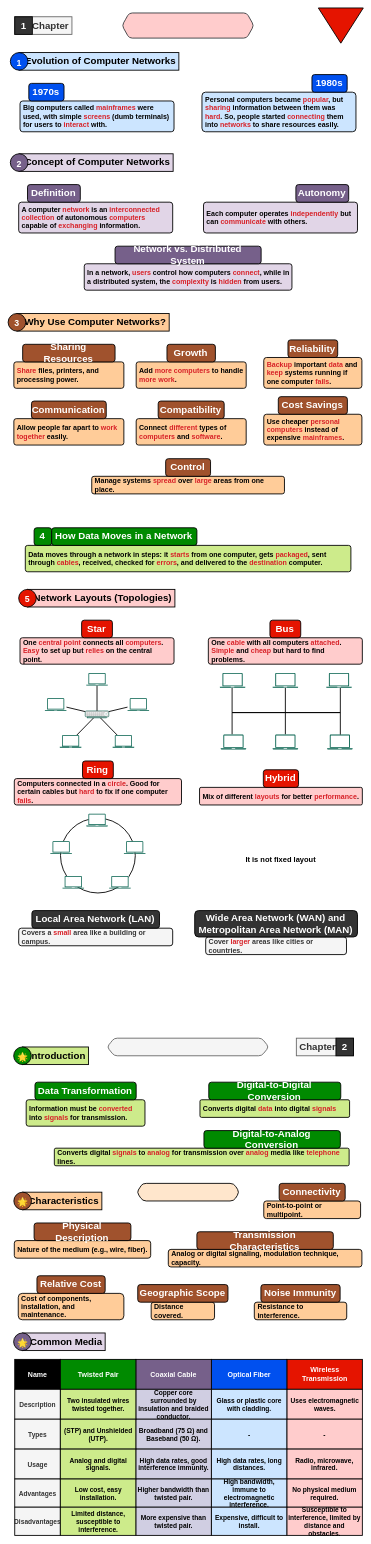
Image size: 371x1544. Some labels were removed from this diagram. The shapes that lost their labels are listed below. From the top down, each one's centre as x and y in pixels, then its label:
At (187,25): "Comupter Network Midterm".
At (341,25): "ماننساش غزة".
At (187,1047): "Data Communication & Switching".
At (188,1192): "Transmission Media".
